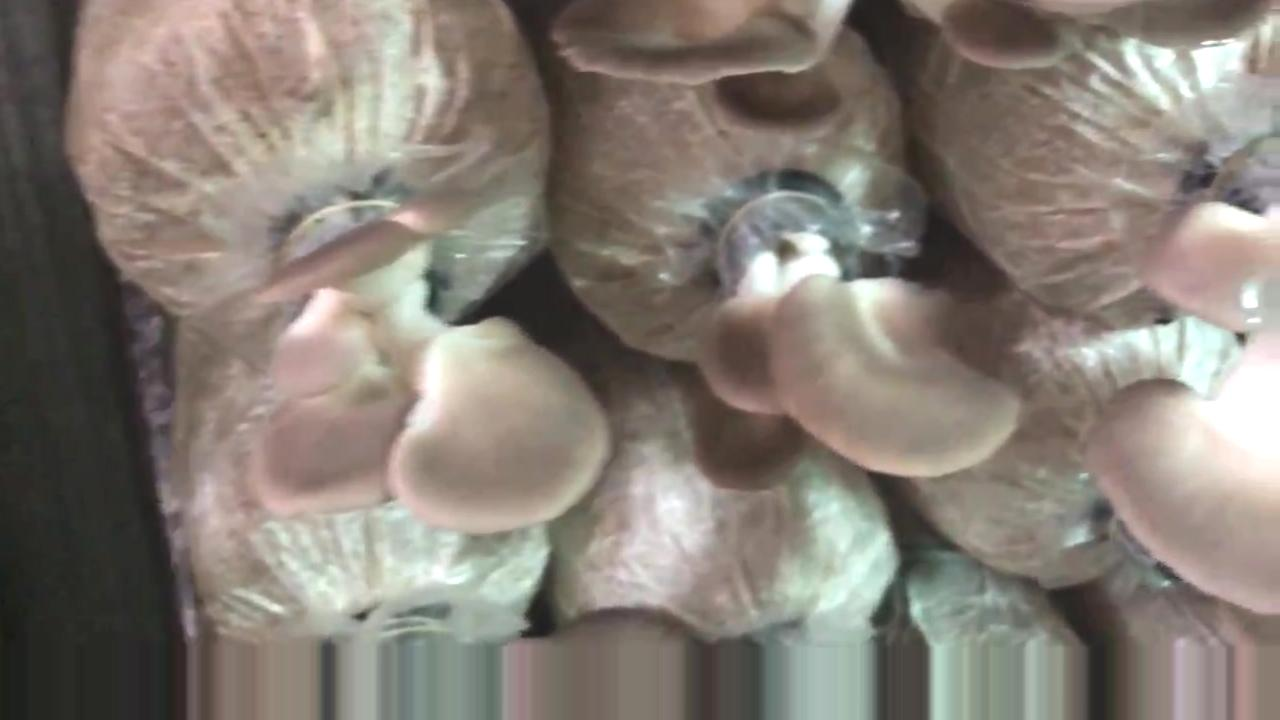nam: (242, 189, 618, 542), (680, 181, 1025, 495), (1086, 180, 1280, 620)
